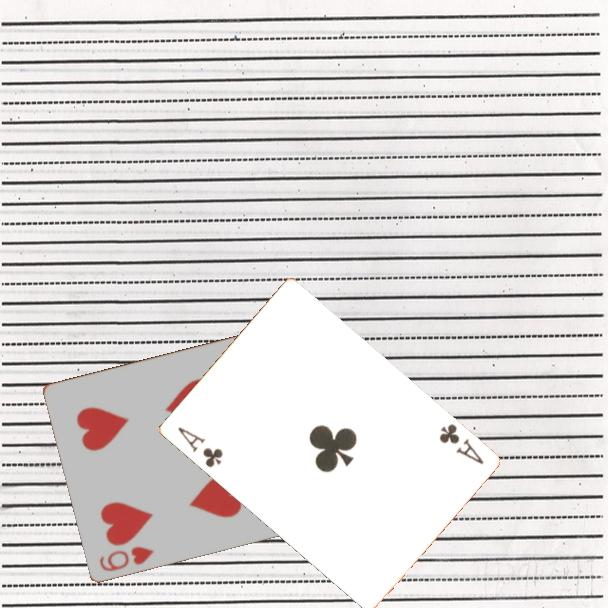c01: (174, 423, 226, 471), (435, 420, 486, 468)
h06: (96, 542, 157, 574)
